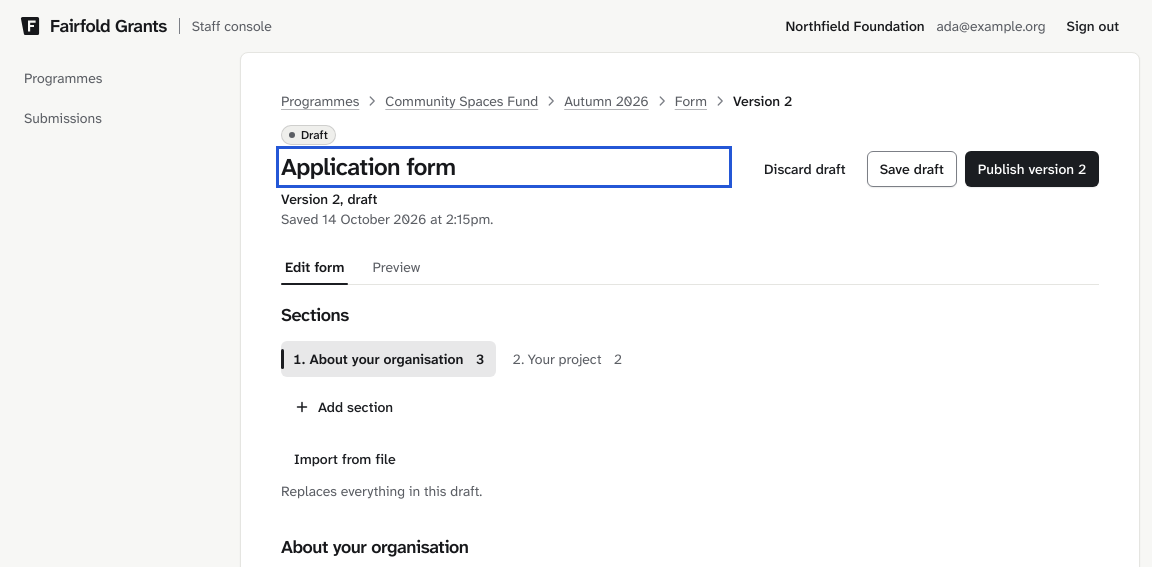
Test: the preview of a draft › says what to fix when the draft has problems, instead of showing a form that is not whole
The width and height of the screenshot is (1152, 567).
Expected: the heading "Application form" is shown, [281,151,455,183]
Expected: the text "Version 2, draft" is shown, [281,190,377,208]
Click the button "Add section": (344, 407) [281,389,406,425]
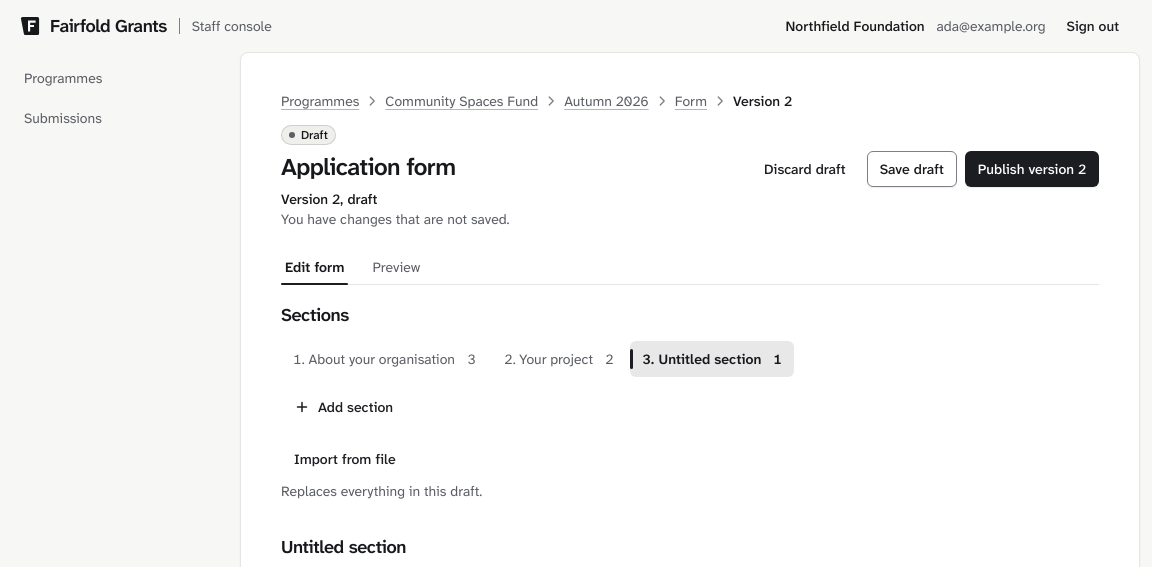
Click the tab "Preview": (396, 267) [368,249,424,285]
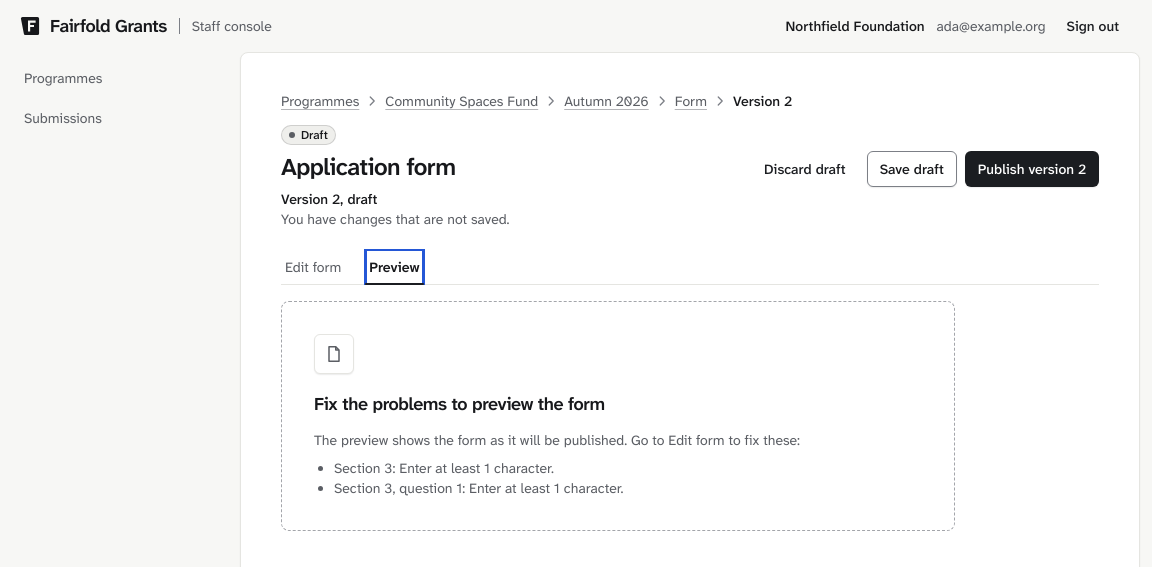
Result: the heading "Fix the problems to preview the form" is shown at [314,390,605,418]
Result: the list item "Section 3: Enter at least 1 character." is shown at [334,459,554,477]
Result: the list item "Section 3, question 1: Enter at least 1 character." is shown at [334,479,624,497]
